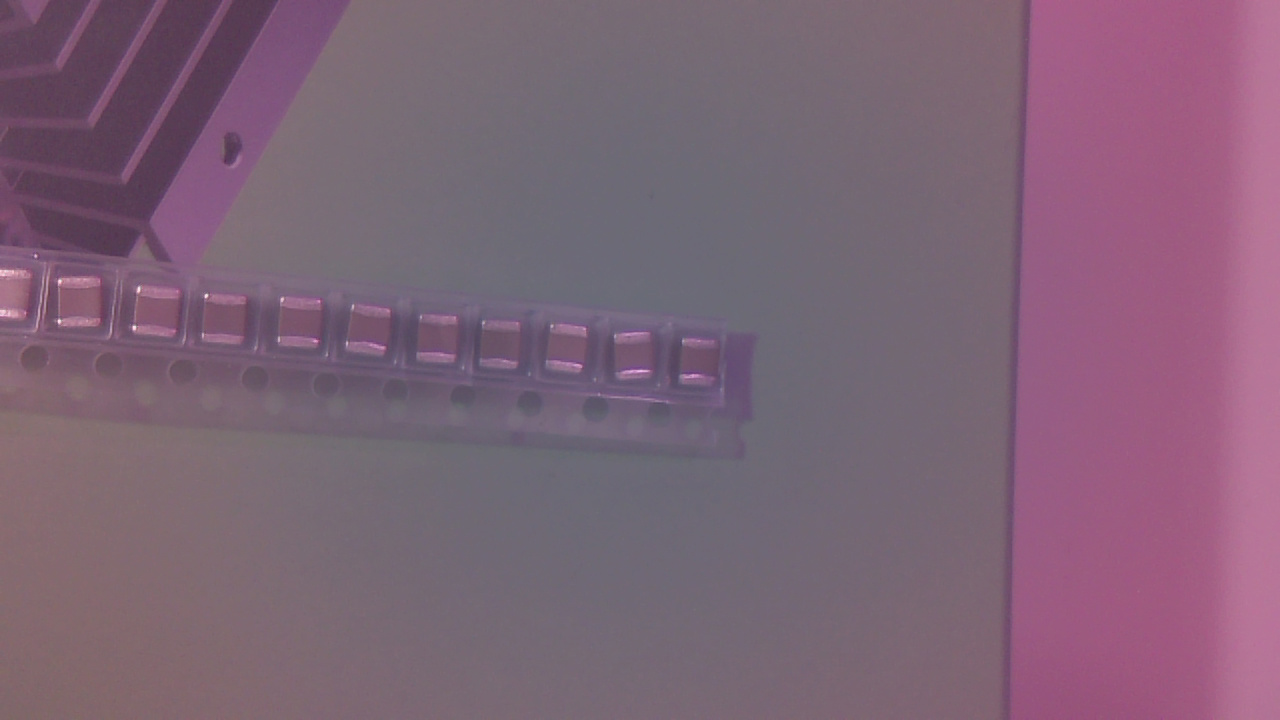Condensator: (135, 286, 191, 343), (207, 295, 257, 351), (547, 326, 597, 380), (282, 297, 329, 353), (61, 277, 108, 333), (350, 309, 400, 359), (616, 335, 662, 387), (484, 320, 529, 371), (421, 317, 463, 369), (680, 341, 722, 391), (6, 272, 37, 324)
